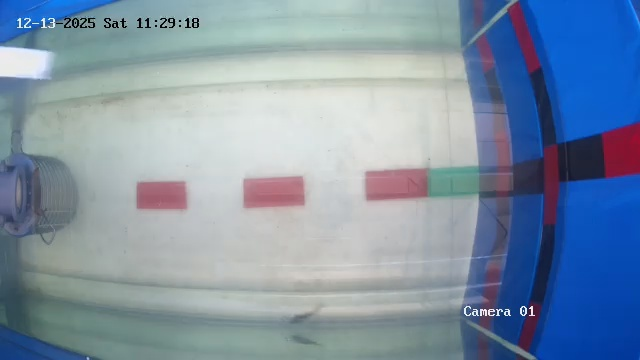fish: (288, 304, 336, 326)
